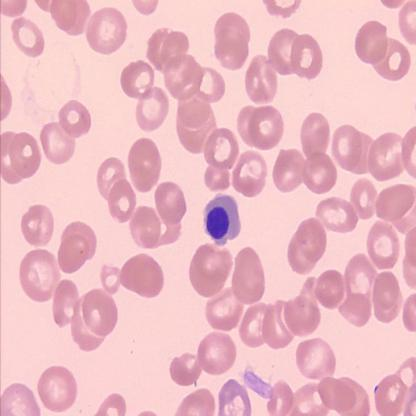NRC: (200, 190, 242, 248)
